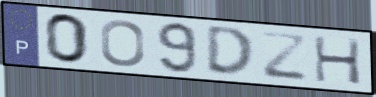0: (42, 13, 94, 66)
9: (155, 20, 200, 75)
D: (204, 25, 257, 79)
H: (311, 34, 364, 87)
O: (98, 18, 147, 68)
Z: (259, 29, 309, 83)
